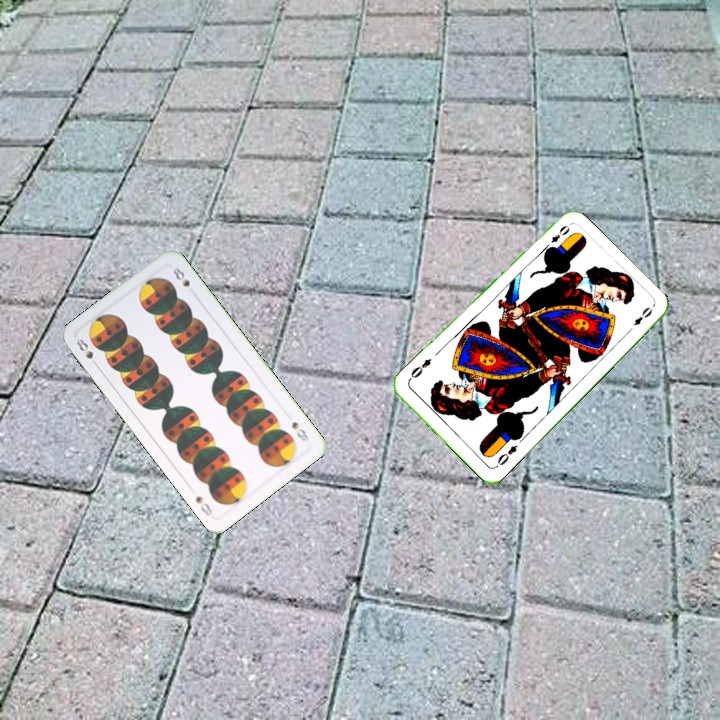EO: (491, 441, 520, 470), (547, 221, 572, 245)
S8: (70, 334, 101, 370), (288, 417, 311, 444)
